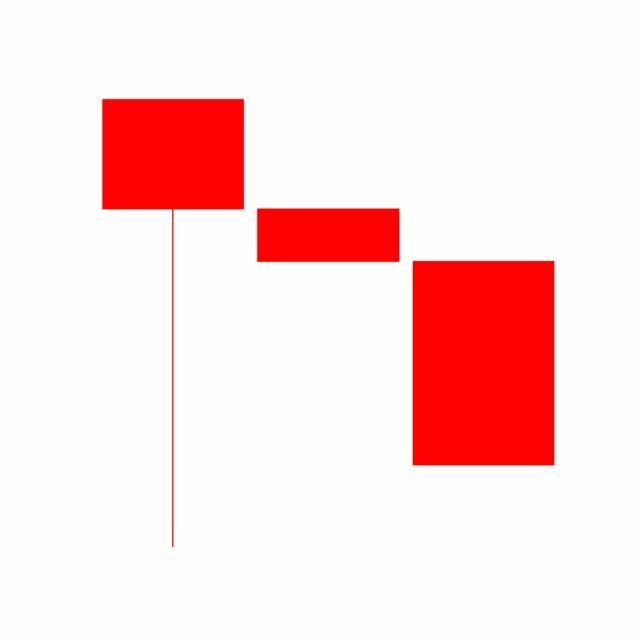Marubozu: (406, 260, 562, 468)
